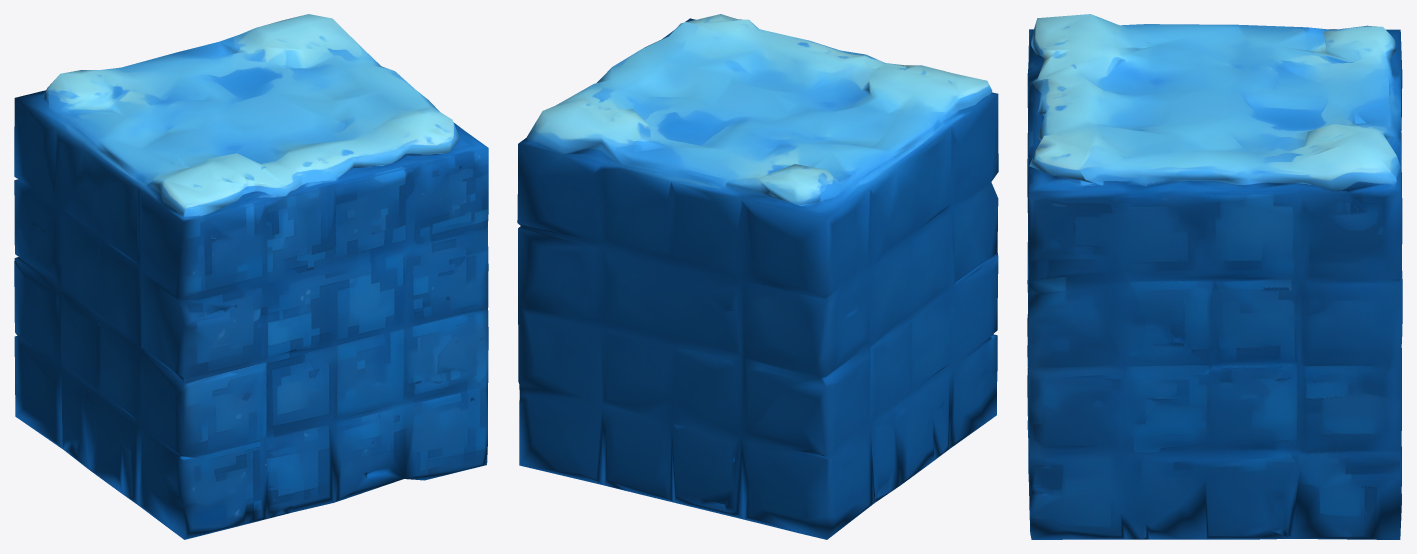
Rendered from Wall_C3_Base.glb.
3 renders of one model, left to right at view 1: azimuth 30°, elevation 25°; view 2: azimuth 150°, elevation 25°; view 3: azimuth 270°, elevation 25°, orthographic. The views are drawn at different scales.
Visible parts, largest first — view 1: tripo_node_3ac98954-176b-4061-83dd-11bab83ea023; view 2: tripo_node_3ac98954-176b-4061-83dd-11bab83ea023; view 3: tripo_node_3ac98954-176b-4061-83dd-11bab83ea023.
Boxes of the visible parts, x1,y1,x2,y2 form: tripo_node_3ac98954-176b-4061-83dd-11bab83ea023: [14, 14, 488, 539]; tripo_node_3ac98954-176b-4061-83dd-11bab83ea023: [517, 14, 998, 539]; tripo_node_3ac98954-176b-4061-83dd-11bab83ea023: [1027, 14, 1402, 539].
Bounding box in the file's own units: 0.9333 × 1 × 0.9007.
1 material, 1 textured.
